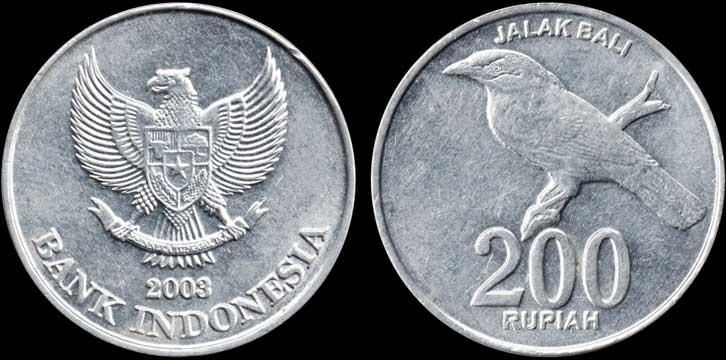coin_200_e2003: (0, 0, 359, 360), (367, 0, 726, 360)
